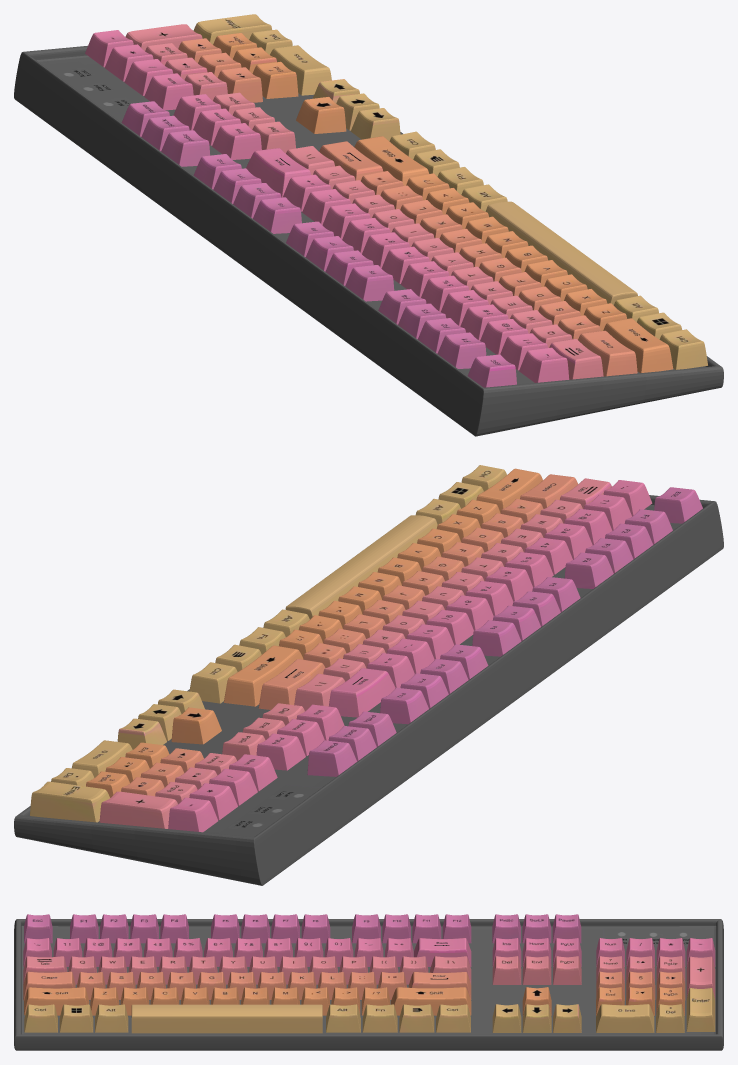
Rendered from full_size_keyboard_yellow_purple_grad-transformed.glb.
The picture shows the model from 3 angles, top to bottom: view 1: azimuth 30°, elevation 25°; view 2: azimuth 150°, elevation 25°; view 3: azimuth 270°, elevation 25°; orthographic projection. The views are drawn at different scales.
Parts seen in each view (by area): view 1: Keyboard Body; view 2: Keyboard Body; view 3: Keyboard Body.
Part boxes in pixels (x1=…): Keyboard Body: x1=14, y1=14, x2=723, y2=436; Keyboard Body: x1=14, y1=465, x2=723, y2=885; Keyboard Body: x1=14, y1=914, x2=723, y2=1050.
Bounding box in the file's own units: 5.55 × 1.5 × 18.04.
Materials: 2 (1 with a texture image).
